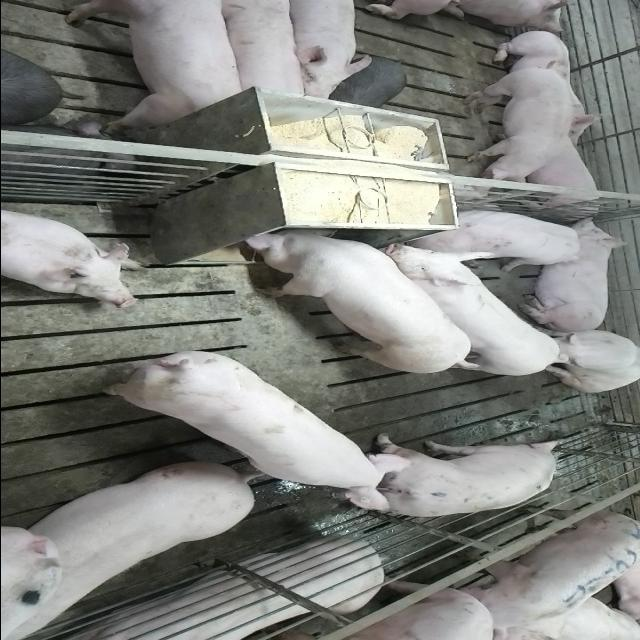Feeding: (235, 218, 476, 370)
Sitting: (532, 328, 639, 393)
Standing: (88, 346, 390, 506), (8, 457, 264, 634), (432, 508, 640, 640), (372, 244, 562, 380), (56, 1, 248, 133), (356, 434, 566, 520), (463, 64, 569, 188), (417, 210, 581, 270), (212, 3, 308, 105), (287, 4, 371, 106)
Sternal_lying: (57, 539, 496, 640), (0, 204, 141, 306), (482, 28, 608, 142), (518, 218, 628, 330), (521, 138, 606, 212)
